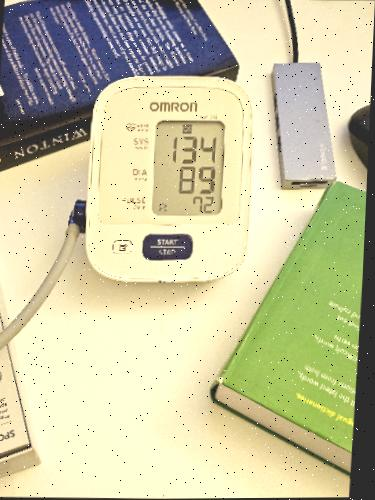bpm: (150, 116, 226, 220)
